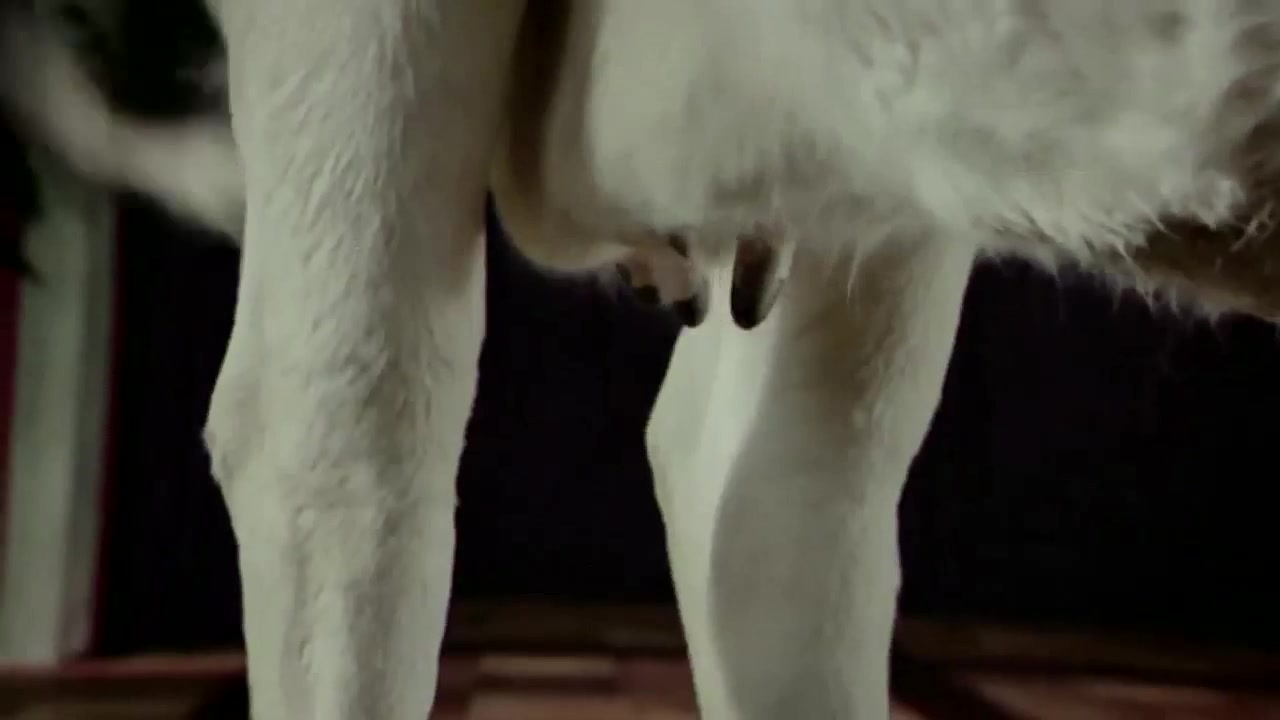cow: (7, 2, 1280, 720)
